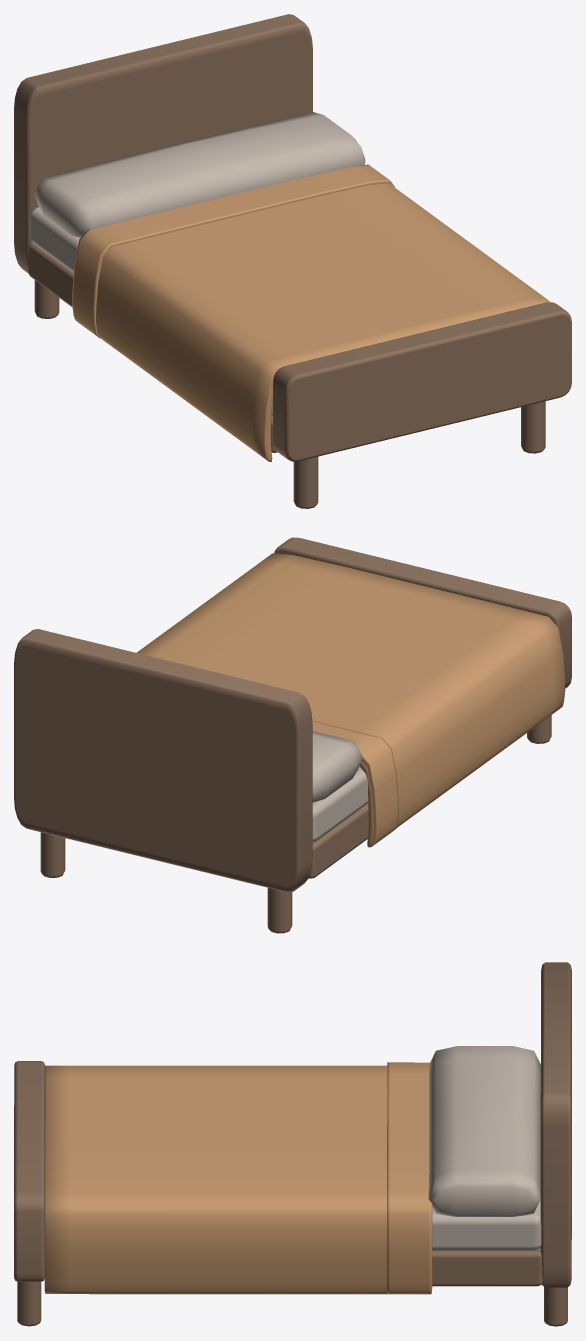
File: bed2.glb
3 views of the same model, one above another, from view 1: azimuth 30°, elevation 25°; view 2: azimuth 150°, elevation 25°; view 3: azimuth 270°, elevation 25° (orthographic).
Parts seen in each view (by area): view 1: blanket, Rectangle (×2), pillow, Subdiv 2, Cylinder (×2), basebed 2, basebed, Cylinder 2; view 2: Rectangle (×2), blanket, Subdiv 2, pillow, basebed 2, basebed, Cylinder, Cylinder 2; view 3: blanket, pillow, Rectangle (×2), Subdiv 2, basebed, basebed 2, Cylinder 2 (×2).
Part boxes in pixels (bbox=[...]): blanket: bbox=[96, 183, 550, 461]; Rectangle (×2): bbox=[14, 14, 571, 461]; pillow: bbox=[34, 112, 365, 237]; Subdiv 2: bbox=[72, 164, 394, 338]; Cylinder (×2): bbox=[34, 280, 318, 508]; basebed 2: bbox=[30, 207, 272, 416]; basebed: bbox=[28, 242, 277, 452]; Cylinder 2: bbox=[521, 401, 545, 453]; Rectangle (×2): bbox=[14, 537, 571, 892]; blanket: bbox=[136, 553, 565, 847]; Subdiv 2: bbox=[312, 720, 398, 846]; pillow: bbox=[312, 731, 362, 802]; basebed 2: bbox=[312, 766, 368, 842]; basebed: bbox=[309, 803, 368, 878]; Cylinder: bbox=[267, 888, 292, 933]; Cylinder 2: bbox=[40, 832, 65, 877]; blanket: bbox=[44, 1065, 432, 1294]; pillow: bbox=[428, 1046, 540, 1216]; Rectangle (×2): bbox=[14, 962, 571, 1287]; Subdiv 2: bbox=[387, 1062, 431, 1293]; basebed: bbox=[432, 1248, 543, 1286]; basebed 2: bbox=[432, 1200, 541, 1250]; Cylinder 2 (×2): bbox=[17, 1282, 567, 1326].
Size of the model in its own units: 2.46 by 1.82 by 3.82.
